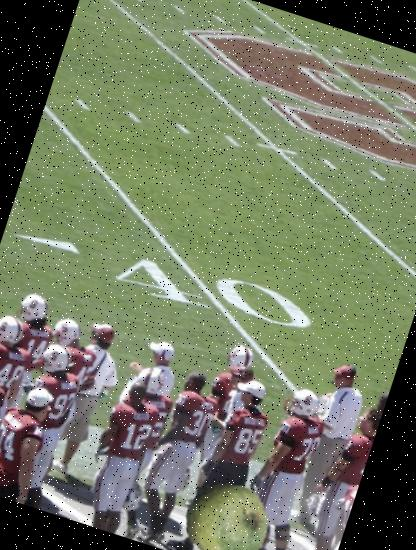Limes: (173, 469, 279, 550)
